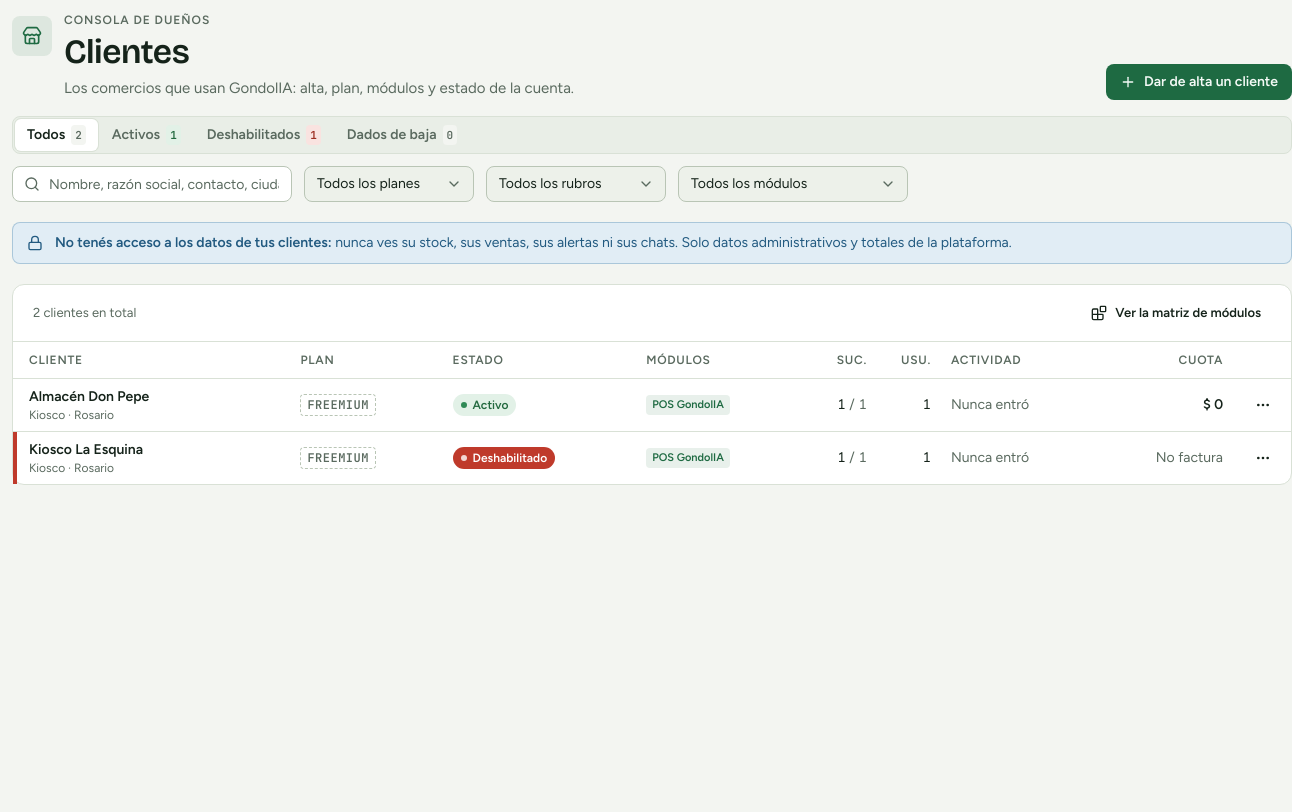
Test case: TenantsPage › el dueño ve el alta, los contadores y las acciones de estado según el cliente
Expected: the text "Consola de dueños" is shown, [64,13,210,27]
Click the button named "Acciones de Kiosco La Esquina". click: (1263, 458)
box: [1247,442,1279,474]
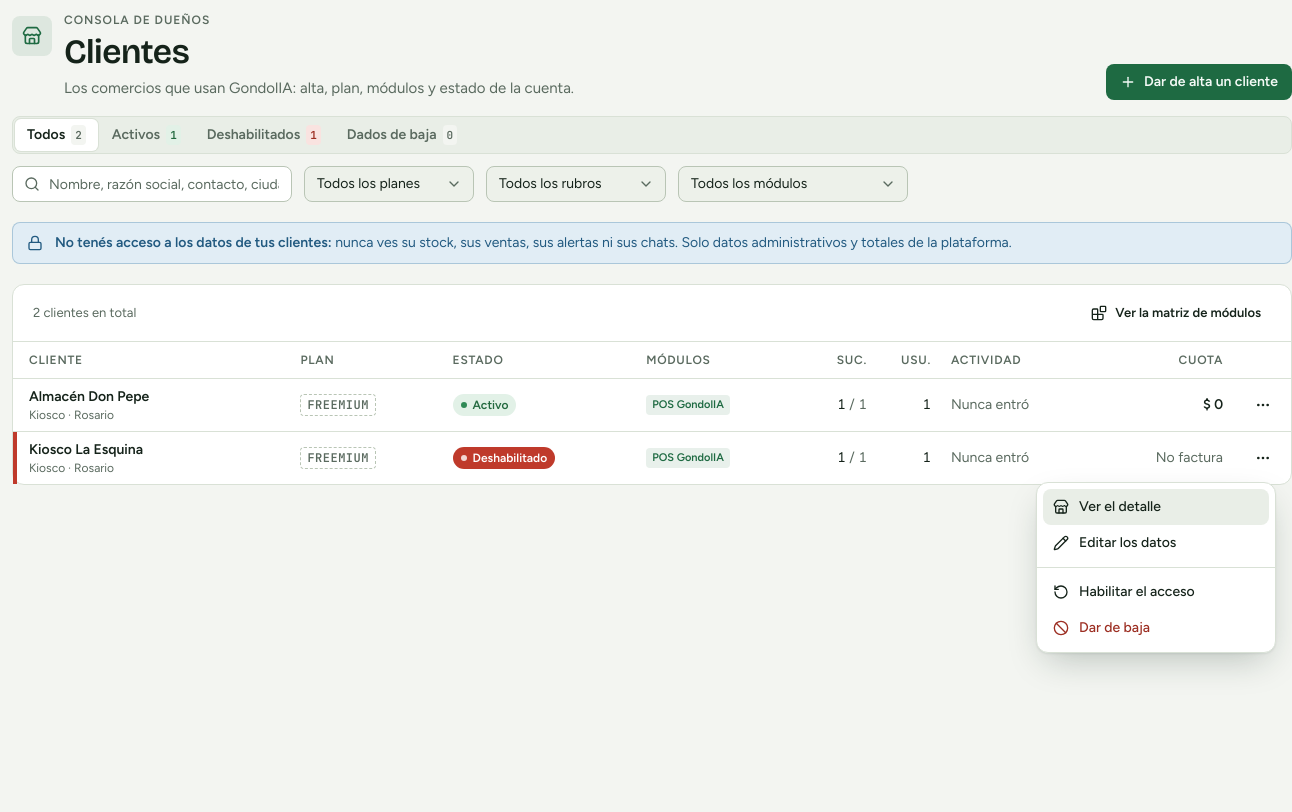
Expected: the menu items read "Ver el detalle", "Editar los datos", "Habilitar el acceso", "Dar de baja", in this order, [1043,489,1269,525]; [1043,525,1269,561]; [1043,574,1269,610]; [1043,610,1269,646]
